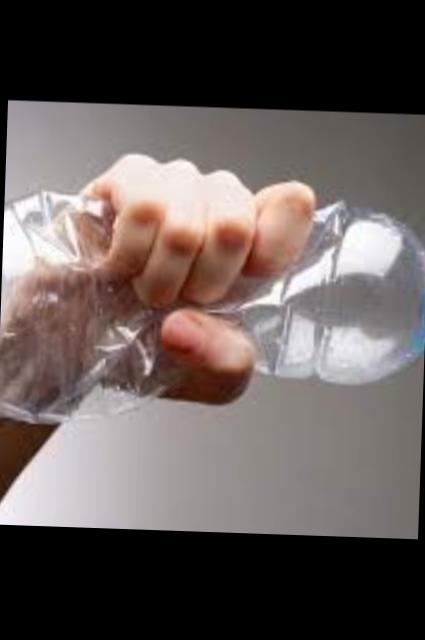plastic: (0, 152, 425, 417)
